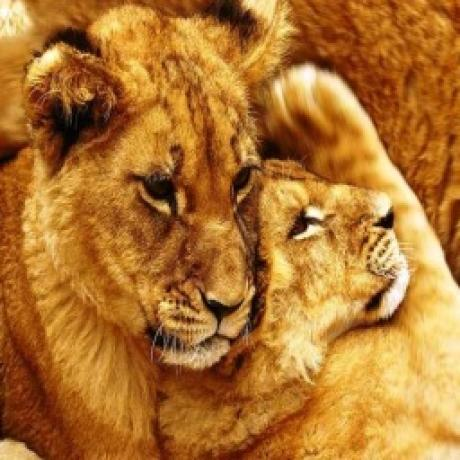Lion: (0, 0, 288, 460), (260, 166, 410, 366)
